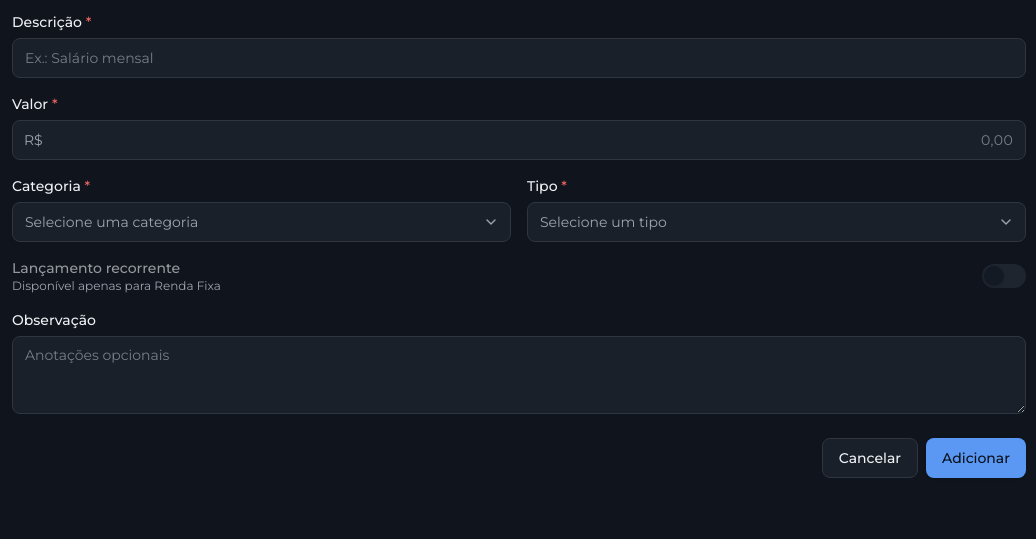
Scenario: TransactionForm — entrada › não salva sem categoria nem tipo e mostra o erro nos dois campos
Type "Projeto X" into the field labelled "Descrição *" at (519, 58), box [12, 38, 1026, 78]
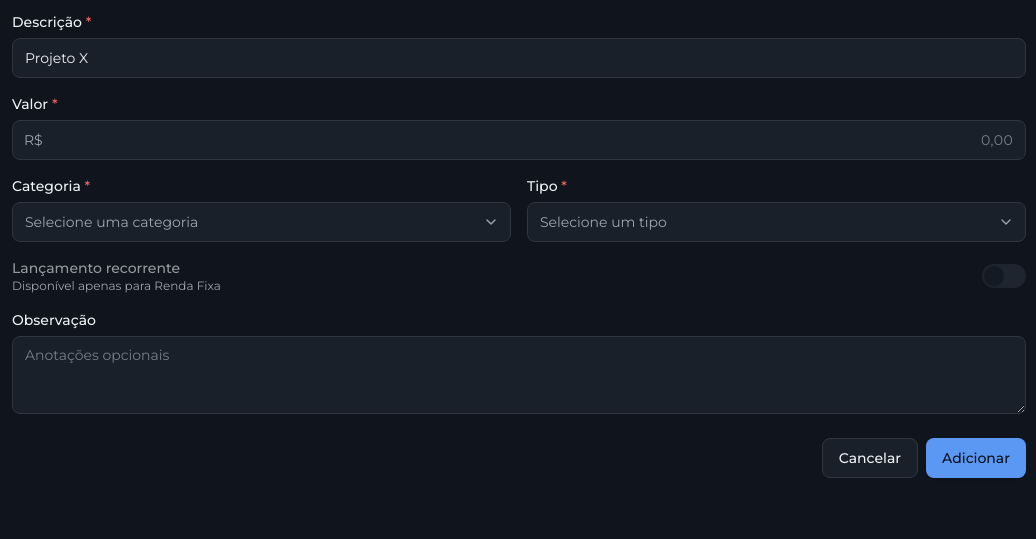
Submit the form
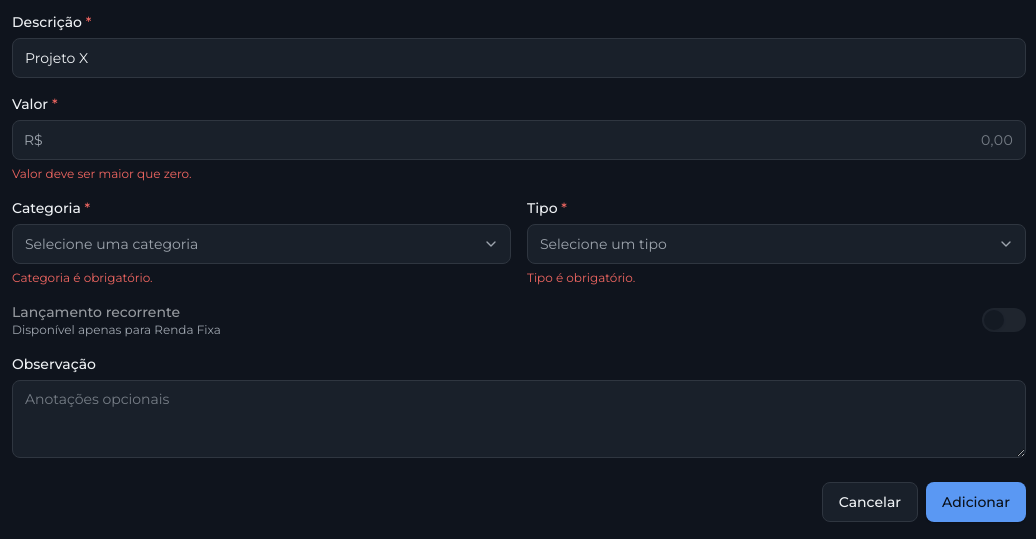
Expected: the message "Categoria é obrigatório." is shown, [12, 270, 153, 285]
Expected: the message "Tipo é obrigatório." is shown, [527, 270, 635, 285]
